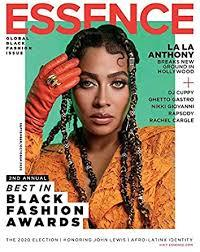paper: (1, 0, 200, 252)
